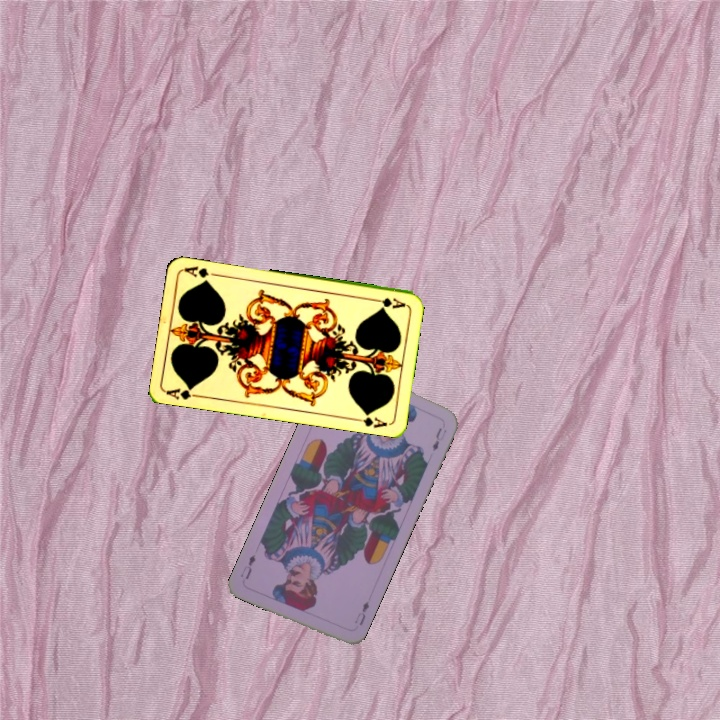EU: (350, 597, 372, 628)
GA: (163, 383, 204, 402), (368, 294, 408, 311)
